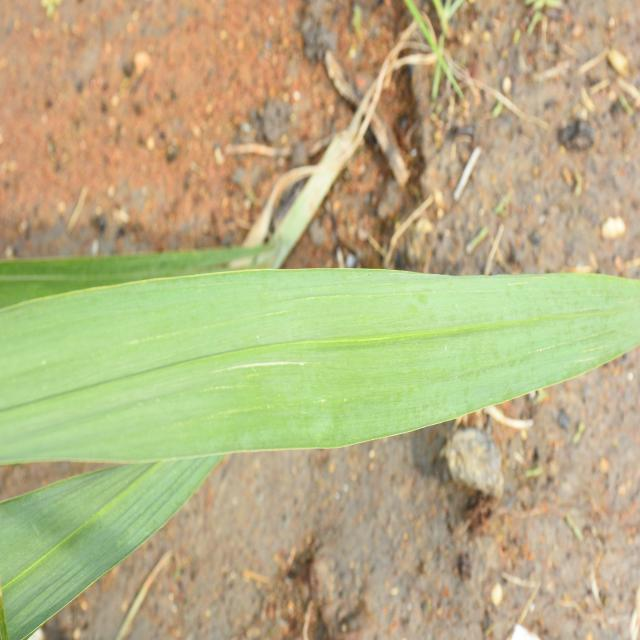Sugarcane: (0, 256, 640, 462)
